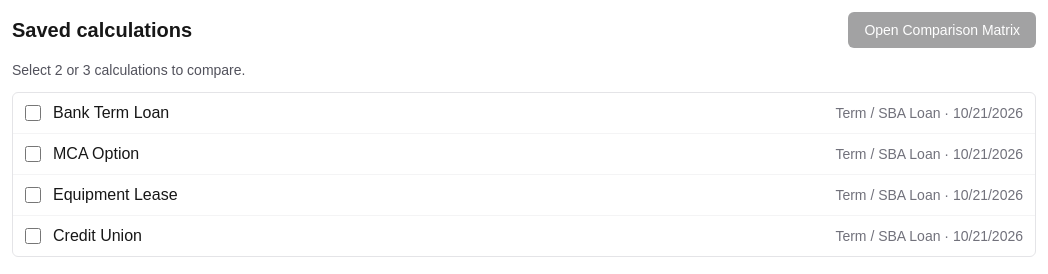
SavedCalculations (REQ-FUNC-DB02) › allows comparing two or three calculations, no more
This screenshot has width=1048, height=274.
Expected: the button "Open Comparison Matrix" is disabled, [848, 12, 1036, 48]
Click the checkbox labelled "Bank Term Loan Term / SBA Loan · 10/21/2026": coordinates (33, 113) [25, 105, 41, 121]
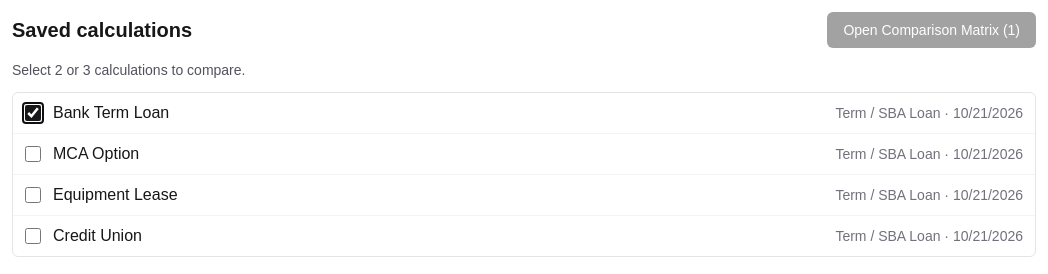
Expected: the button "Open Comparison Matrix (1)" is disabled, [827, 12, 1036, 48]
Click the checkbox labelled "MCA Option Term / SBA Loan · 10/21/2026": coordinates (33, 154) [25, 146, 41, 162]
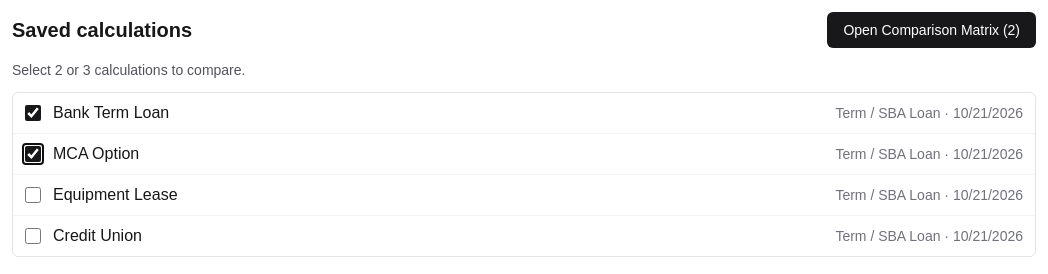
Expected: the button "Open Comparison Matrix (2)" is enabled, [827, 12, 1036, 48]
Click the checkbox labelled "Equipment Lease Term / SBA Loan · 10/21/2026": coordinates (33, 195) [25, 187, 41, 203]
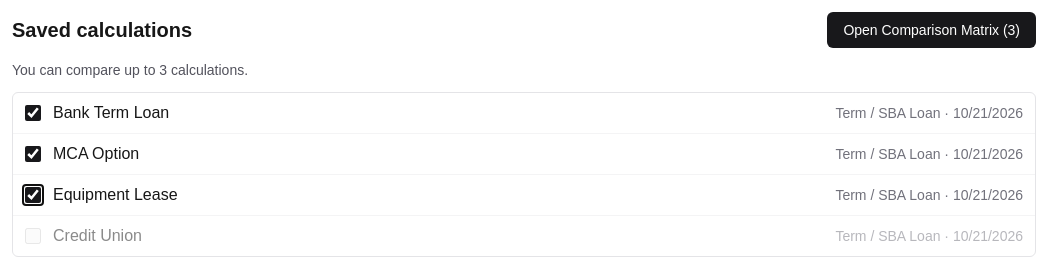
Expected: the text "You can compare up to 3 calculations." is shown, [12, 62, 248, 78]
